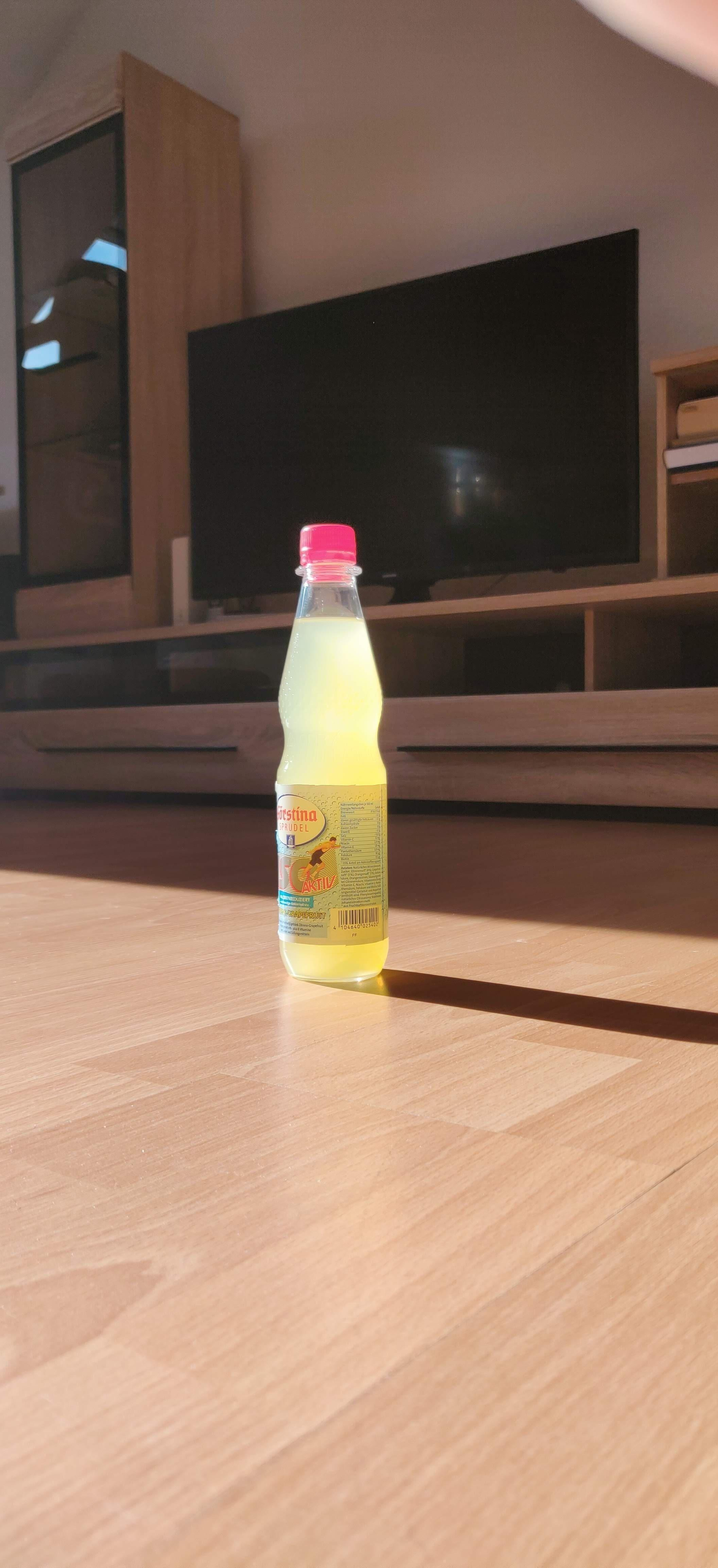bottle-plastic: (274, 517, 390, 982)
